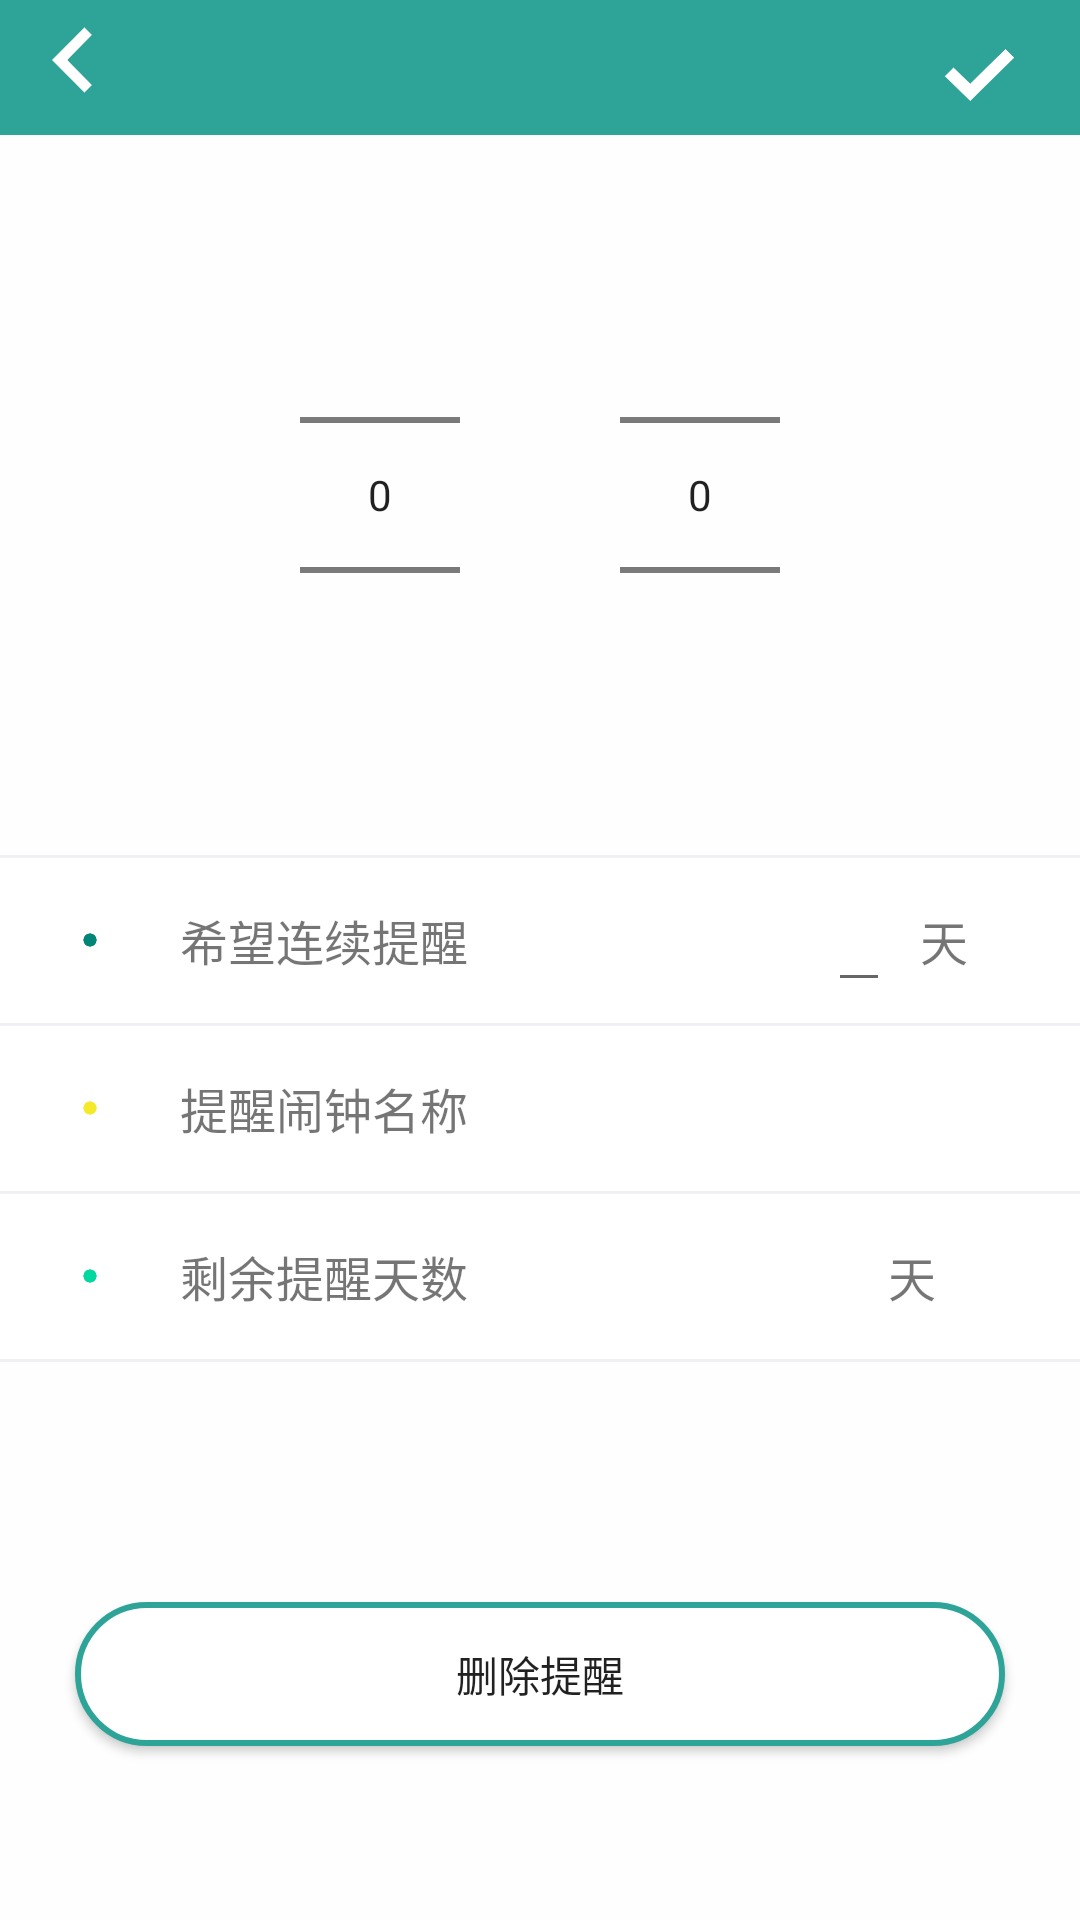

Icons on this 1080*1920 Android screen, each with the point to tap as (x,y):
back: (72,60)
gou: (979,75)
